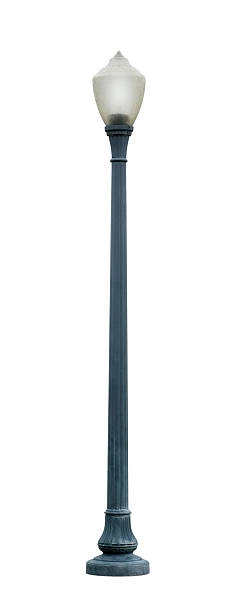light_pole: (100, 126, 135, 555)
